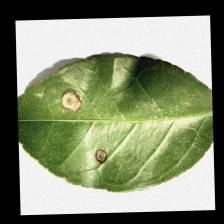canker: (57, 86, 144, 184)
